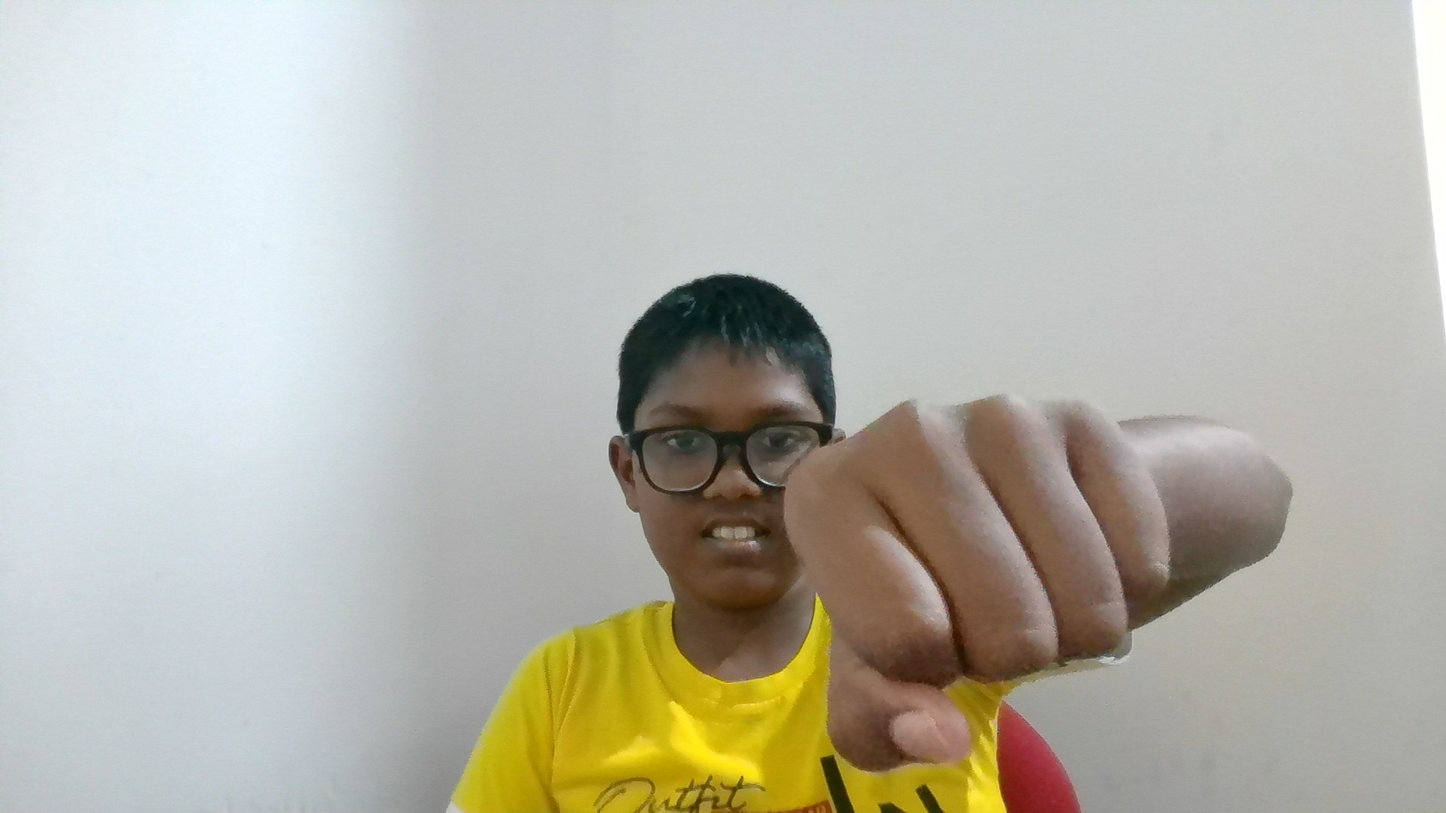Yes: (772, 324, 1307, 780)
